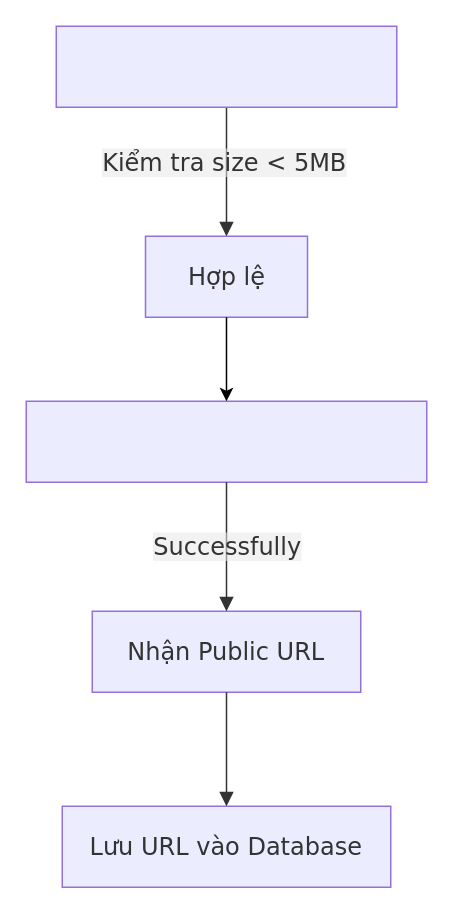
Image size: 453x914. Some labels were removed from this diagram. The centre of each missing label's shape, as x and y in pixels:
Upload lên Supabase Storage: point 226,441
User upload: point 226,66
